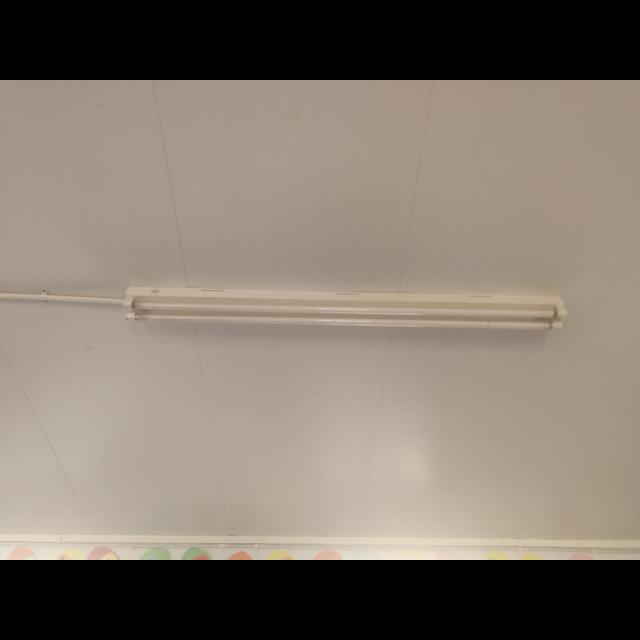Straight-Tube-Fluorescent-Lamp: (113, 274, 582, 352)
